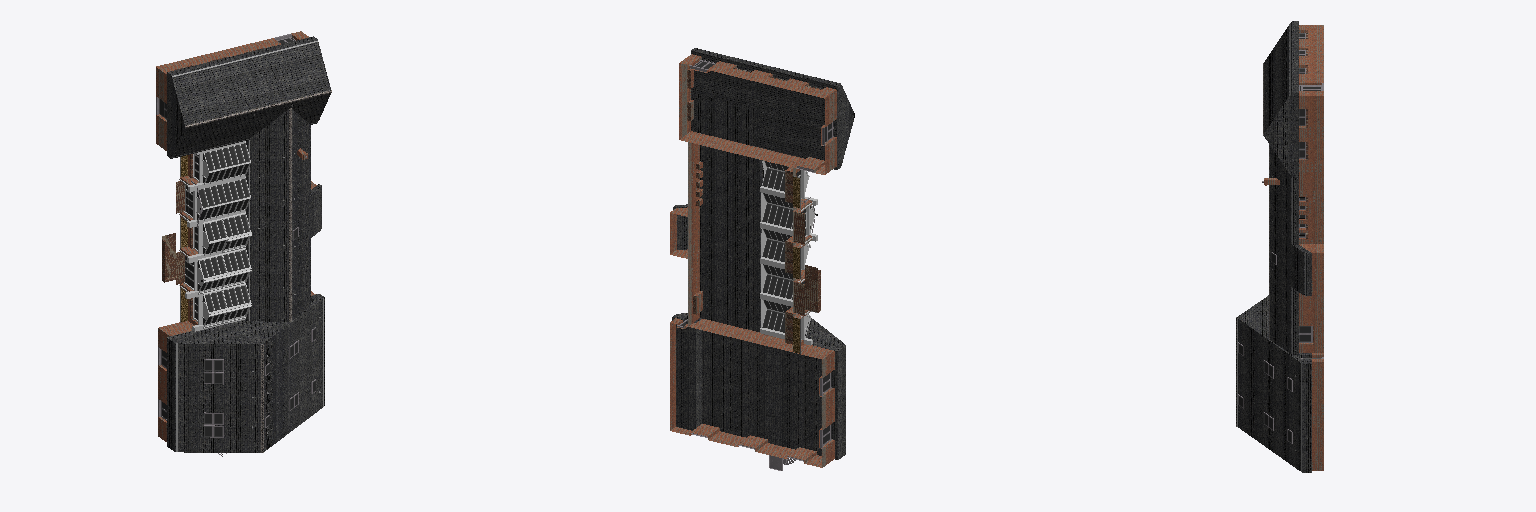
The picture shows the model from 3 angles: view 1: azimuth 30°, elevation 25°; view 2: azimuth 150°, elevation 25°; view 3: azimuth 270°, elevation 25°; orthographic projection.
Visible parts, largest first — view 1: GEO-media_library; view 2: GEO-media_library; view 3: GEO-media_library.
Boxes of the visible parts, x1=… form: GEO-media_library: x1=156, y1=31, x2=331, y2=456; GEO-media_library: x1=670, y1=48, x2=854, y2=470; GEO-media_library: x1=1236, y1=21, x2=1323, y2=472.
Size of the model in its own units: 19.1 by 44.9 by 9.06.
Materials: 7 (6 with a texture image).